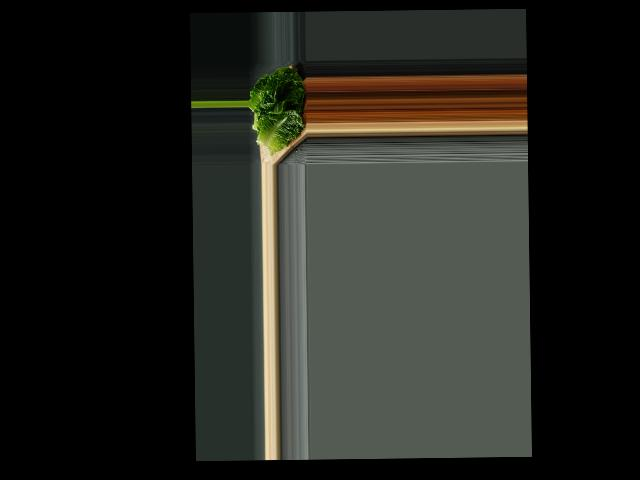lettuce: (248, 64, 307, 152)
